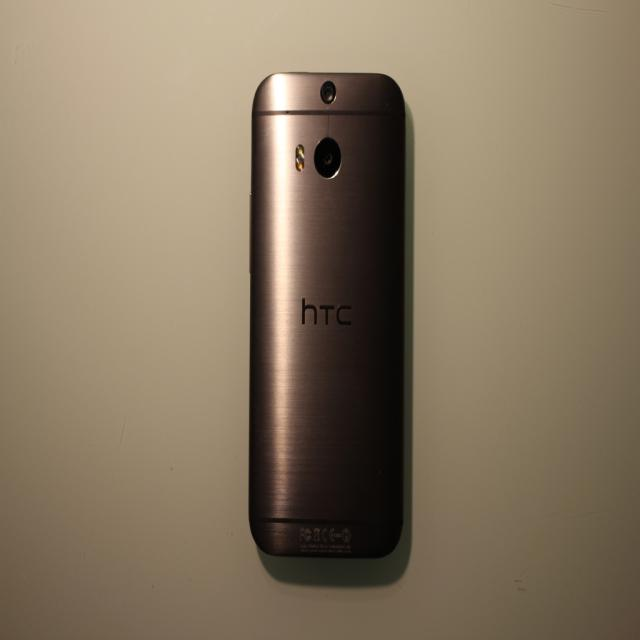Mobile-phone: (243, 51, 417, 590)
